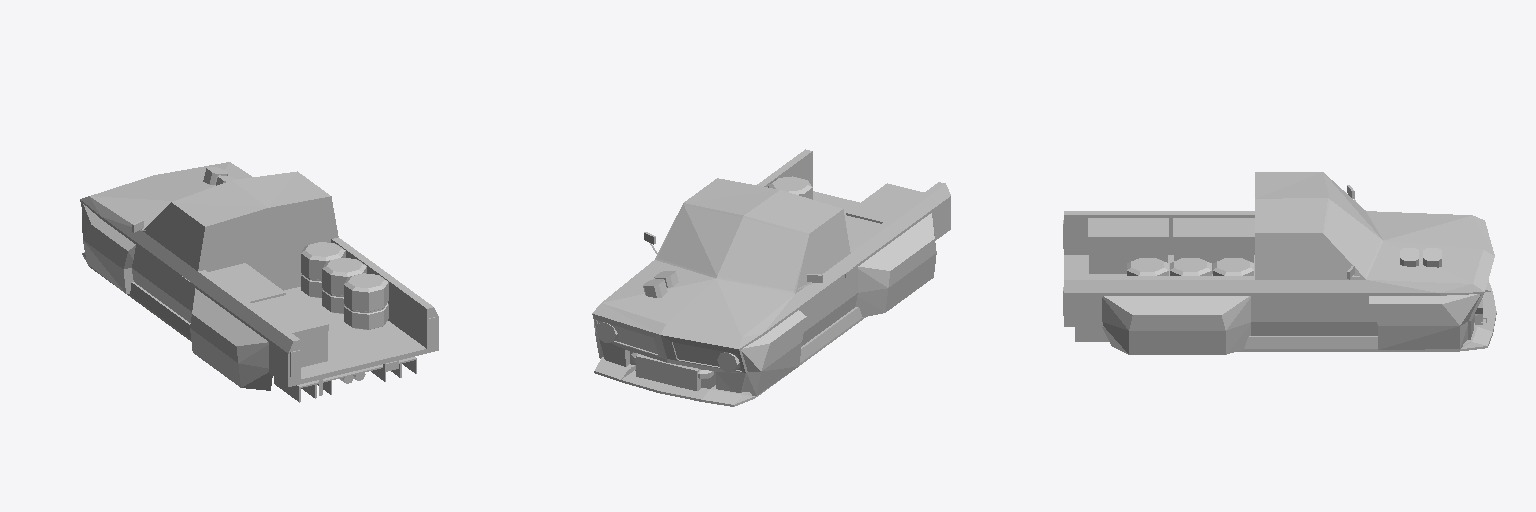
File: HoverTruck.obj
3 views of the same model, side by side, from view 1: azimuth 30°, elevation 25°; view 2: azimuth 150°, elevation 25°; view 3: azimuth 270°, elevation 25° (orthographic).
Parts seen in each view (by area): view 1: Cube.003_Cube.002, Cube.008_Cube.005, Cube.010_Cube.004, Cube.011_Cube.006, Cube.013_Cube.011, Cylinder.003_Cylinder.005, Cube.009_Cube.016, Cube, Cylinder.002_Cylinder.003, Cylinder.001_Cylinder.002; view 2: Cube.003_Cube.002, Cube.010_Cube.004, Cube.008_Cube.005, Cube.009_Cube.016, Cube.013_Cube.011, Cube.007_Cube.003, Cylinder.024_Cylinder.008, Cylinder.030_Cylinder.016, Cylinder.003_Cylinder.005, Cube; view 3: Cube.003_Cube.002, Cube.008_Cube.005, Cube.010_Cube.004, Cube.013_Cube.011, Cube.009_Cube.016, Cube, Cylinder.030_Cylinder.016, Cylinder.003_Cylinder.005, Cylinder.002_Cylinder.003, Cube.011_Cube.006, Cylinder.001_Cylinder.002.
Boxes of the visible parts, <box> form: Cube.003_Cube.002: <box>80,162,438,386</box>; Cube.008_Cube.005: <box>82,203,272,390</box>; Cube.010_Cube.004: <box>146,200,328,267</box>; Cube.011_Cube.006: <box>284,287,425,378</box>; Cube.013_Cube.011: <box>251,294,328,367</box>; Cylinder.003_Cylinder.005: <box>344,273,388,329</box>; Cube.009_Cube.016: <box>82,252,416,402</box>; Cube: <box>209,263,285,302</box>; Cylinder.002_Cylinder.003: <box>322,258,366,313</box>; Cylinder.001_Cylinder.002: <box>301,242,345,297</box>; Cube.003_Cube.002: <box>592,149,950,392</box>; Cube.010_Cube.004: <box>658,205,848,291</box>; Cube.008_Cube.005: <box>594,213,936,395</box>; Cube.009_Cube.016: <box>594,307,865,406</box>; Cube.013_Cube.011: <box>846,183,923,223</box>; Cube.007_Cube.003: <box>630,354,700,390</box>; Cylinder.024_Cylinder.008: <box>596,322,739,372</box>; Cylinder.030_Cylinder.016: <box>643,271,678,297</box>; Cylinder.003_Cylinder.005: <box>768,176,812,199</box>; Cube: <box>845,215,880,246</box>; Cube.003_Cube.002: <box>1064,172,1494,339</box>; Cube.008_Cube.005: <box>1102,294,1480,354</box>; Cube.010_Cube.004: <box>1258,174,1381,277</box>; Cube.013_Cube.011: <box>1088,218,1168,273</box>; Cube.009_Cube.016: <box>1075,280,1496,351</box>; Cube: <box>1173,218,1254,273</box>; Cylinder.030_Cylinder.016: <box>1400,248,1441,267</box>; Cylinder.003_Cylinder.005: <box>1127,258,1168,275</box>; Cylinder.002_Cylinder.003: <box>1170,258,1211,275</box>; Cube.011_Cube.006: <box>1064,255,1254,275</box>; Cylinder.001_Cylinder.002: <box>1213,258,1253,275</box>.
Bounding box in the file's own units: 2.07 × 1.23 × 4.17.